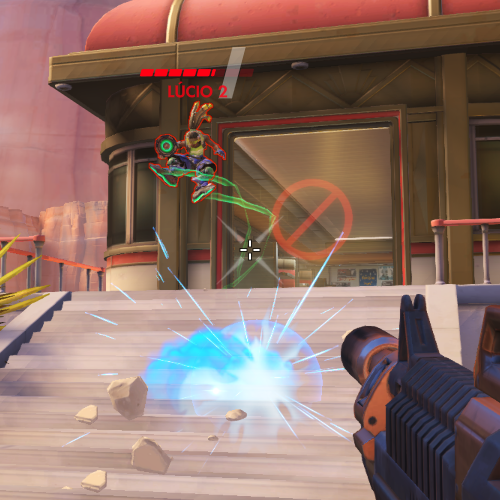hpbar: (139, 68, 255, 77)
